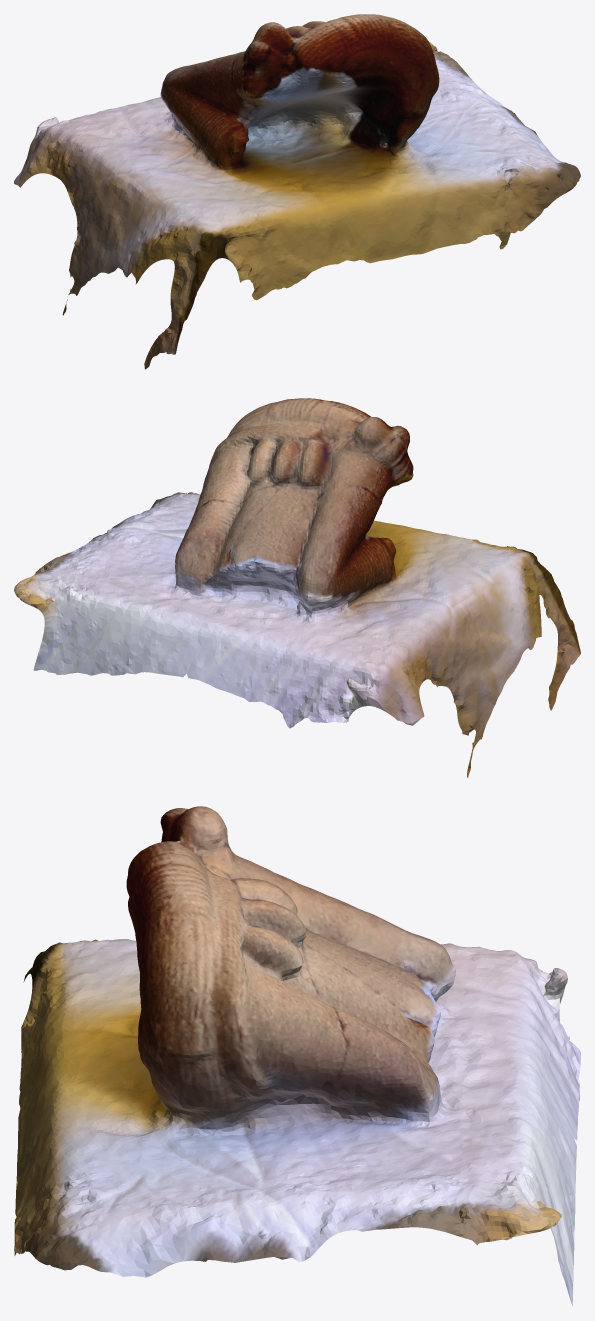
3 views of the same model, one above another, from view 1: azimuth 30°, elevation 25°; view 2: azimuth 150°, elevation 25°; view 3: azimuth 270°, elevation 25° (orthographic). The views are drawn at different scales.
Bounding box in the file's own units: 0.4274 × 0.2838 × 0.3339.
Materials: 1 (1 with a texture image).
